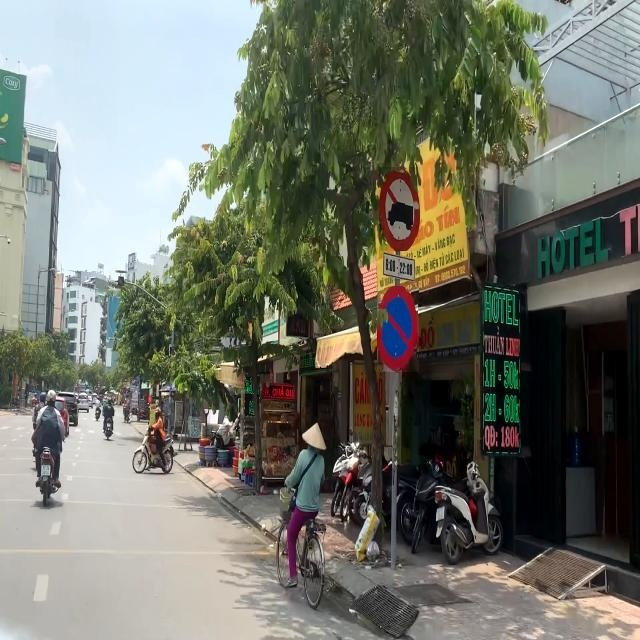bien_cam: (377, 286, 419, 372), (379, 167, 421, 251)
